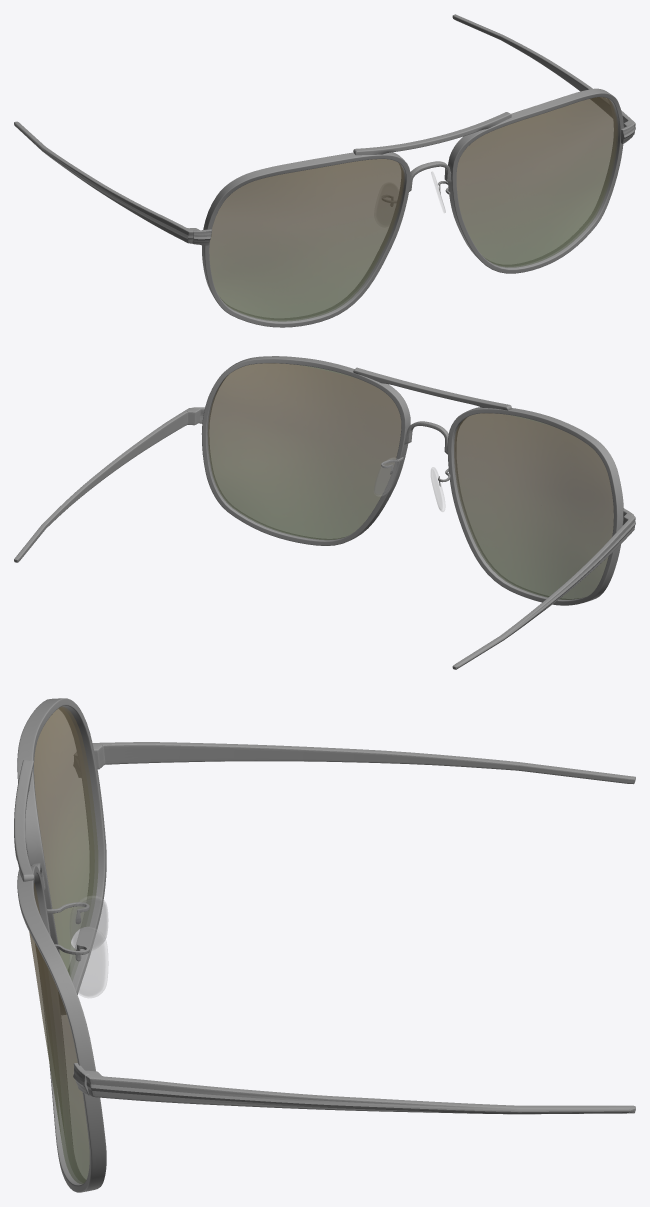
Rendered from chromance_app.glb.
3 renders of one model, top to bottom at view 1: azimuth 30°, elevation 25°; view 2: azimuth 150°, elevation 25°; view 3: azimuth 270°, elevation 25°, orthographic. The views are drawn at different scales.
Visible parts, largest first — view 1: lentes, armacao; view 2: lentes, armacao, ponte; view 3: armacao, lentes, ponte.
Part boxes in pixels (x1,y1,x2,y2): lentes: (209,97,618,321); armacao: (14,14,635,327); lentes: (207,363,613,599); armacao: (14,356,635,669); ponte: (374,457,445,511); armacao: (14,698,635,1192); lentes: (29,706,98,1184); ponte: (69,896,108,997).
Size of the model in its own units: 0.1573 by 0.0556 by 0.1173.
Materials: 3 (3 with a texture image).
